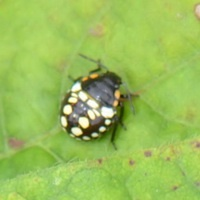insect: (60, 54, 131, 148)
